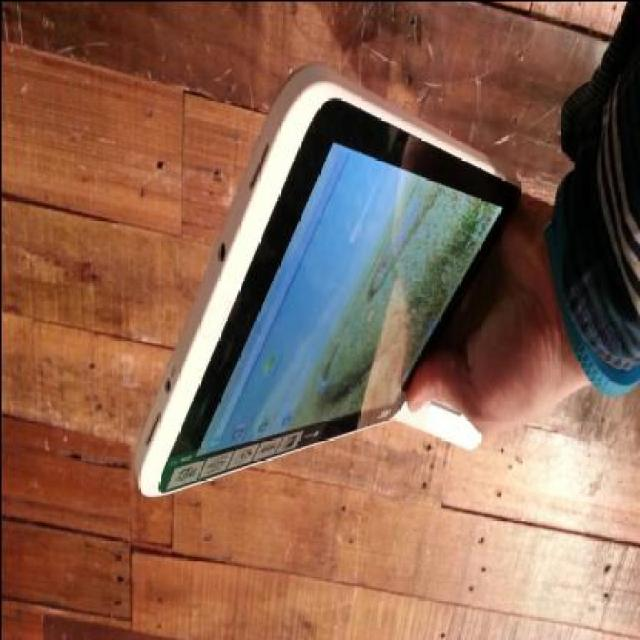tablet: (168, 88, 459, 532)
